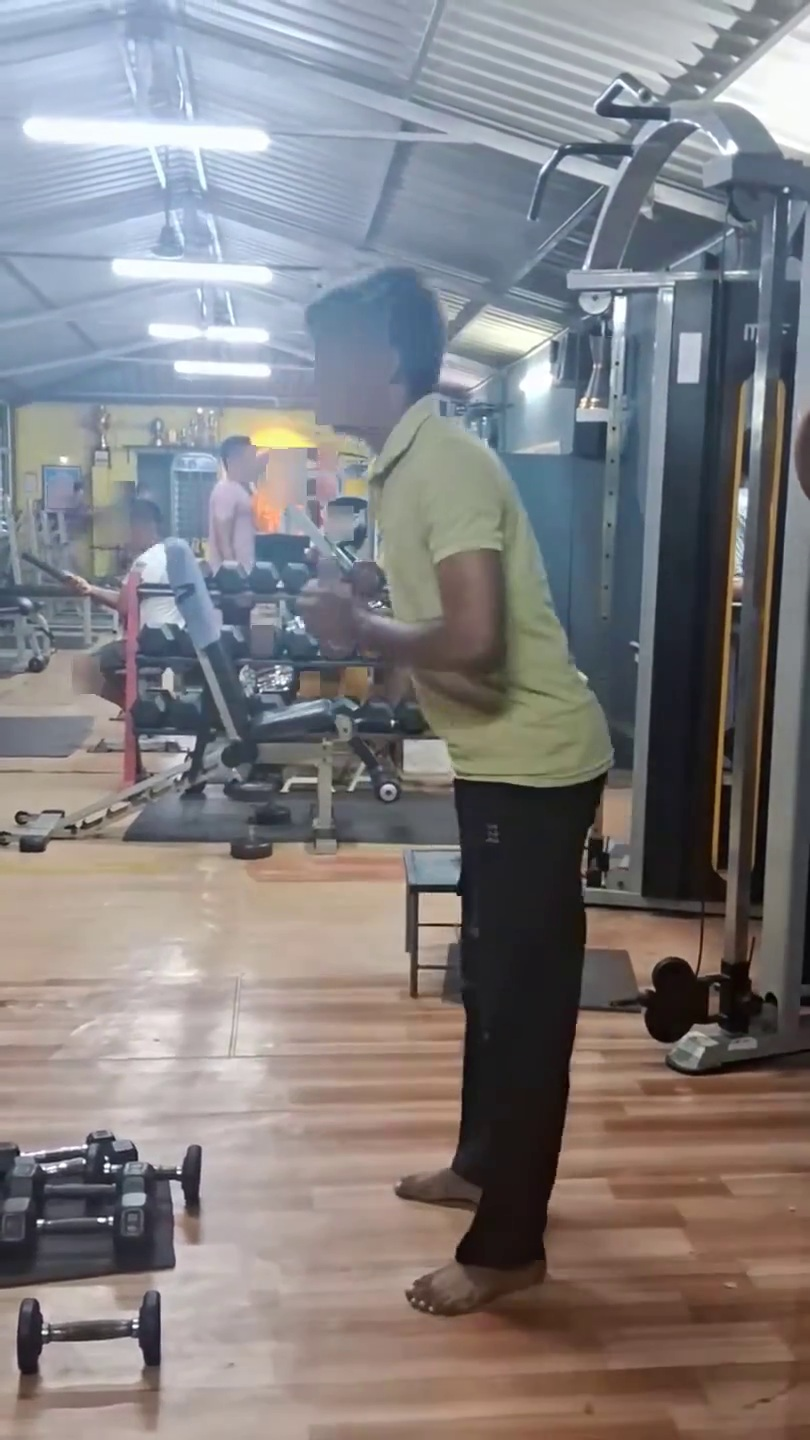squat: (238, 292, 619, 1350)
